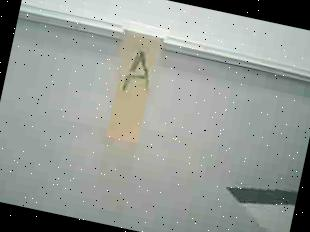Bottle A: (94, 12, 172, 156)
